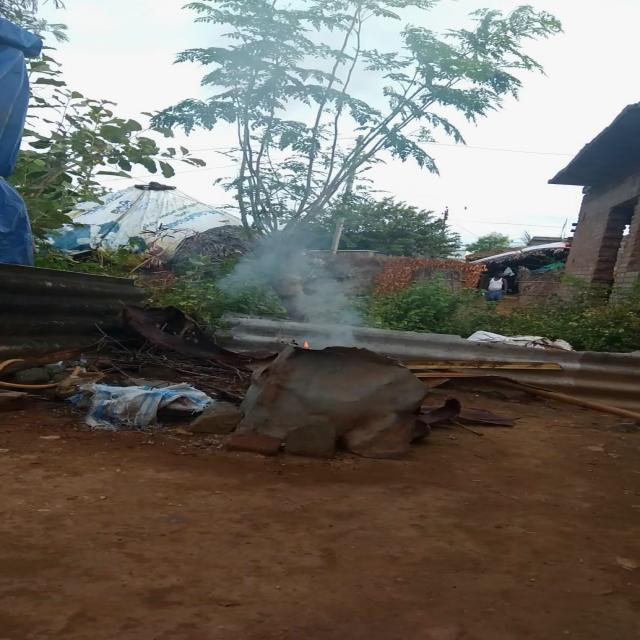firerotation: (207, 218, 373, 350)
